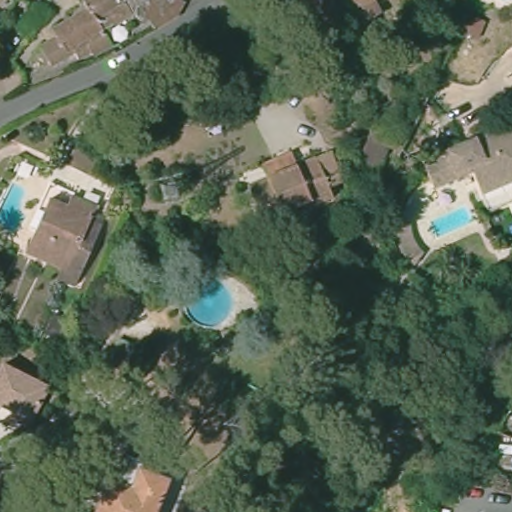pool: (177, 273, 235, 330), (1, 181, 39, 244), (423, 200, 484, 239)
